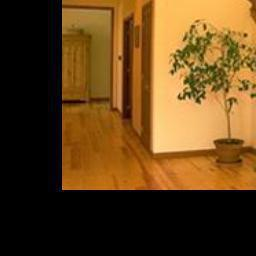Armario: (61, 35, 91, 104)
Escaleras: (249, 0, 256, 215)
Matera: (181, 23, 256, 174)
Puerta: (17, 0, 35, 186), (138, 0, 156, 143), (31, 9, 45, 148), (120, 10, 134, 117)
